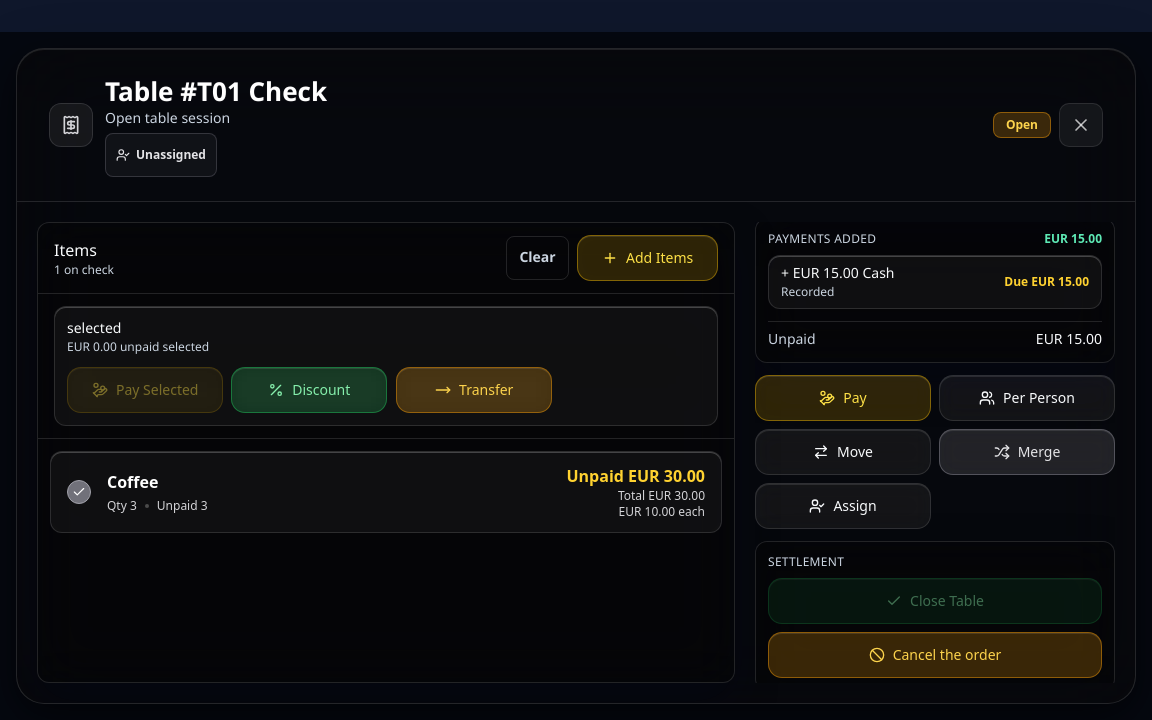
Test case: table check workflow ownership › offers only available tables and compatible checks as merge destinations
The width and height of the screenshot is (1152, 720).
(page scrolled)
Expected: the text "Coffee" is shown, [107,471,158,493]
Click the button "Merge" at {"x": 1027, "y": 452}, box [939,429,1115,475]
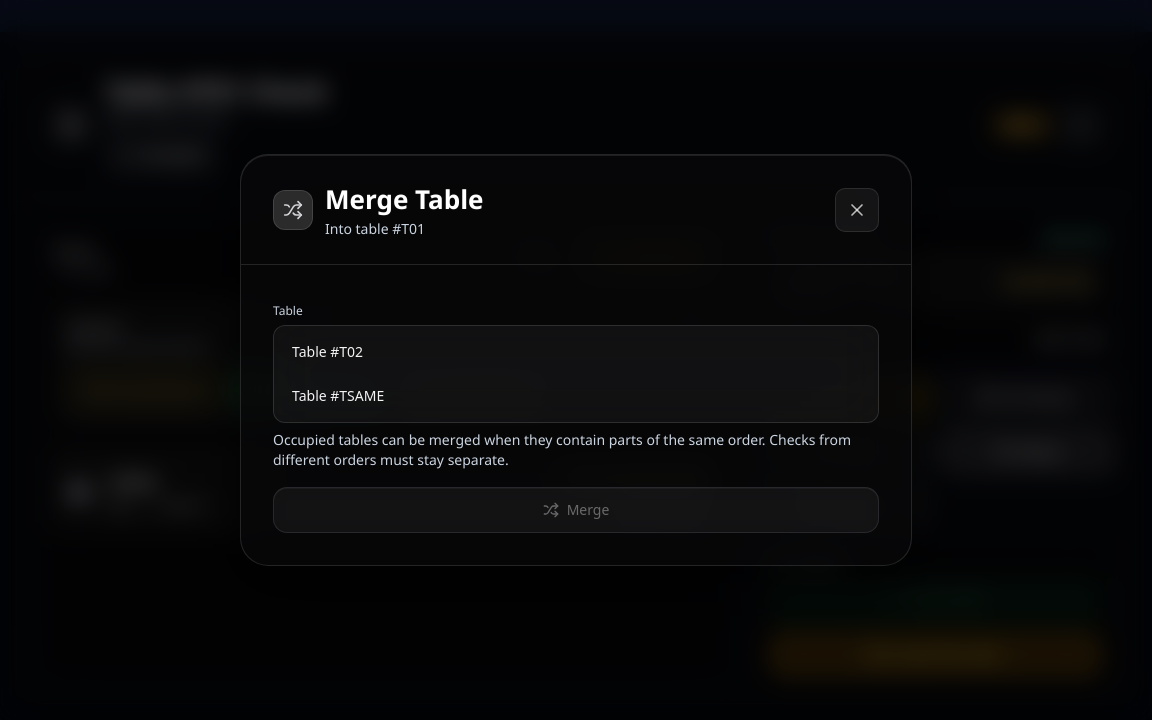
Expected: the heading "Merge Table" is shown, [325,179,484,220]
Expected: the option "Table #T02" is shown, [280,332,872,372]
Expected: the option "SAME" is shown, [280,376,872,416]
